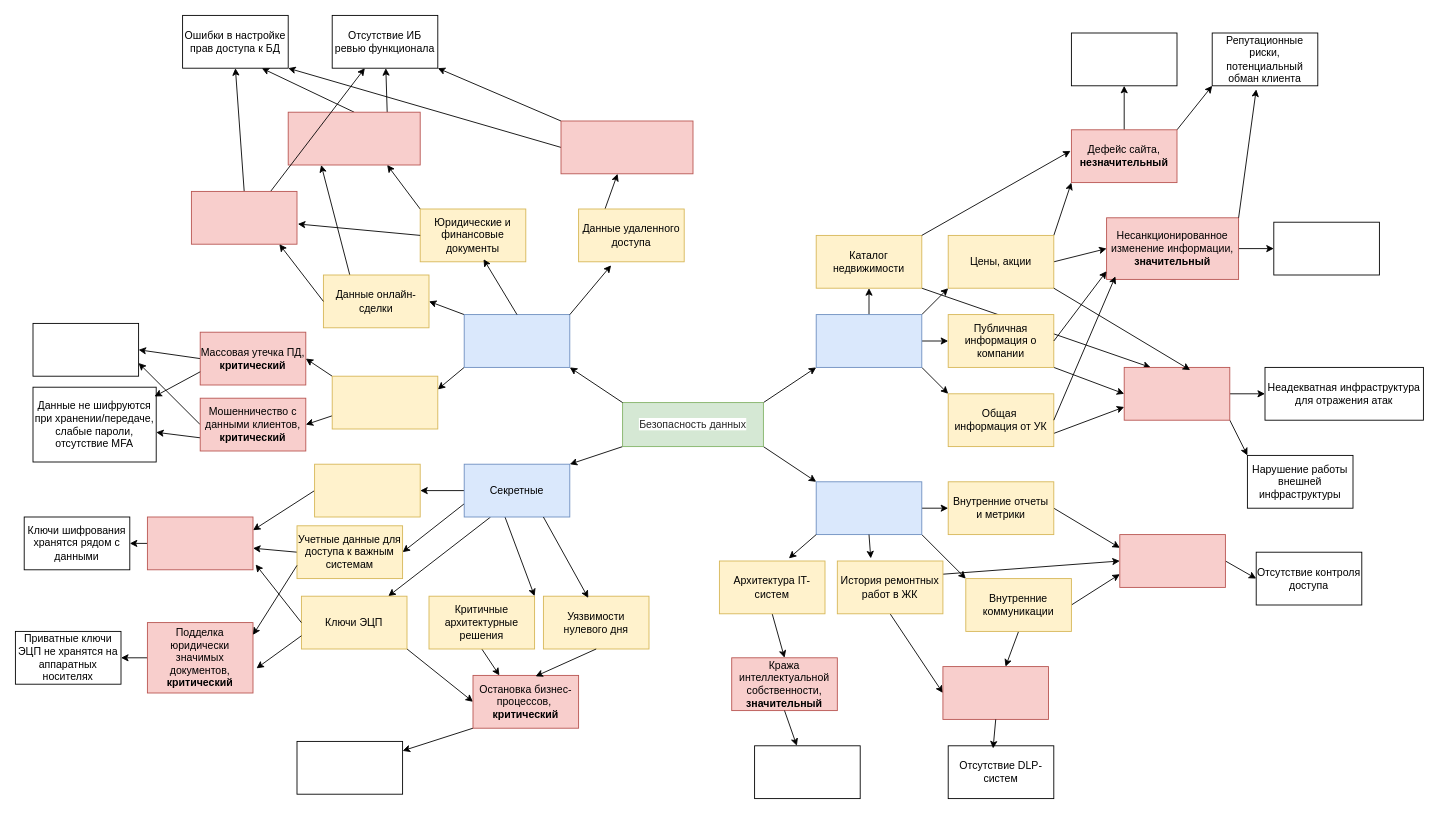
This 1439x814 diagram has some shape labels left out. Here are the shapes that lost their labels. From the top down, the centre of each, then its label:
(1124,59): Слабые учетные данные для CMS
(353,138): Несанкционированная сделка, критический
(626,147): Несанкционированный доступ к "Умному дому", критический
(244,217): Подмена/удаление финасовых документов, критический
(1326,248): Отсутствие контроля целостности контента
(85,349): Уязвимости в веб-приложениях
(516,340): Конфиденциальные
(868,340): Публичные
(384,402): Персональные данные
(1176,393): DDOS, значительный
(367,490): Ключи шифрования
(868,508): Внутренние
(200,543): Компроментация инфраструктуры, критический
(1172,560): Утечка к конкурентам, значительный
(995,692): Внутренний саботаж или ошибка, значительный
(349,767): Отсутствие ротации ключей и паролей
(807,772): Ненадлежащее хранение документов
